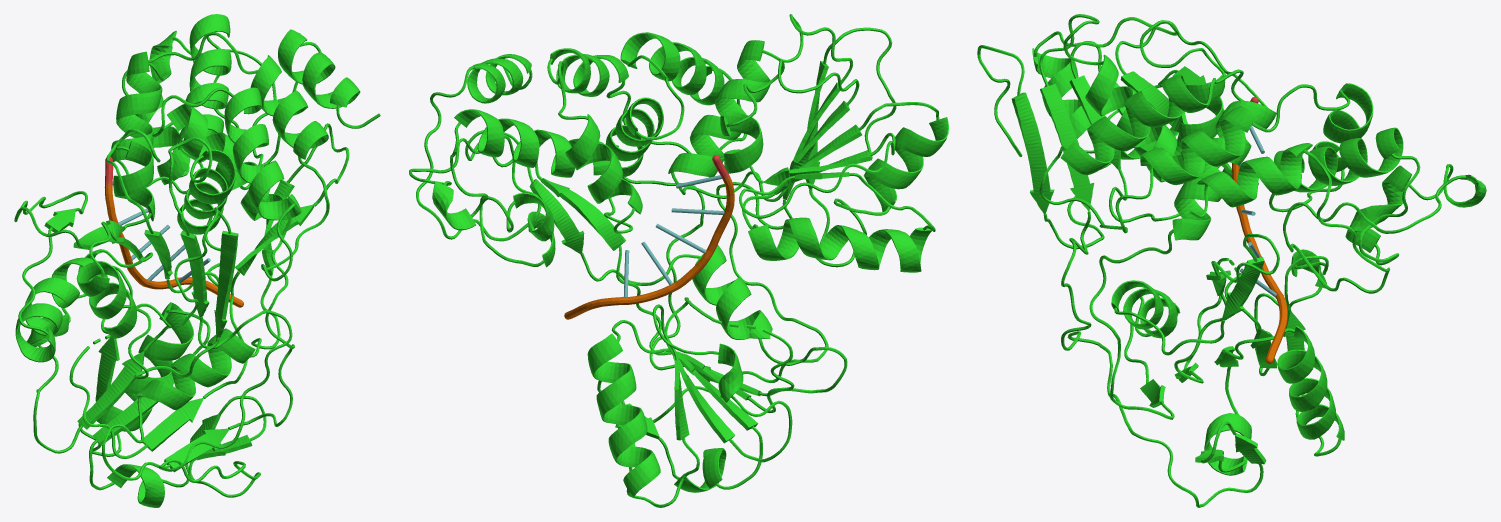
3 renders of one model, left to right at view 1: azimuth 30°, elevation 25°; view 2: azimuth 150°, elevation 25°; view 3: azimuth 270°, elevation 25°, orthographic. The views are drawn at different scales.
Visible parts, largest first — view 1: Shape_IndexedFaceSet; view 2: Shape_IndexedFaceSet; view 3: Shape_IndexedFaceSet.
Part boxes in pixels (x1,y1,x2,y2): Shape_IndexedFaceSet: (14,14,380,507); Shape_IndexedFaceSet: (409,14,948,507); Shape_IndexedFaceSet: (977,14,1486,507).
Size of the model in its own units: 5797 by 5889 by 6168.
